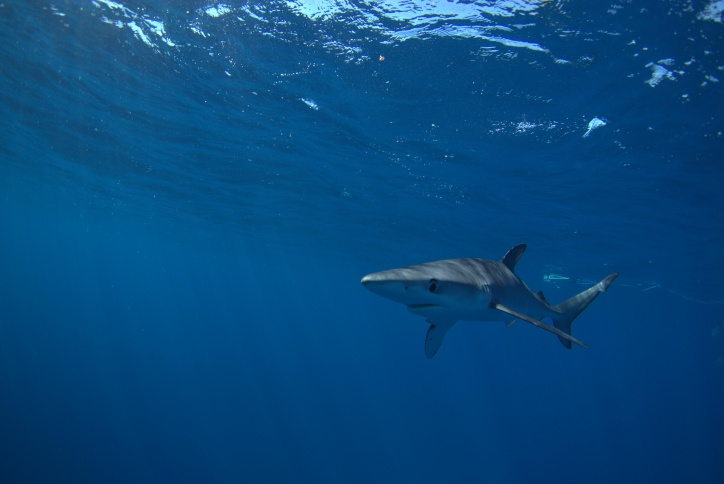Azul: (402, 200, 724, 345)
